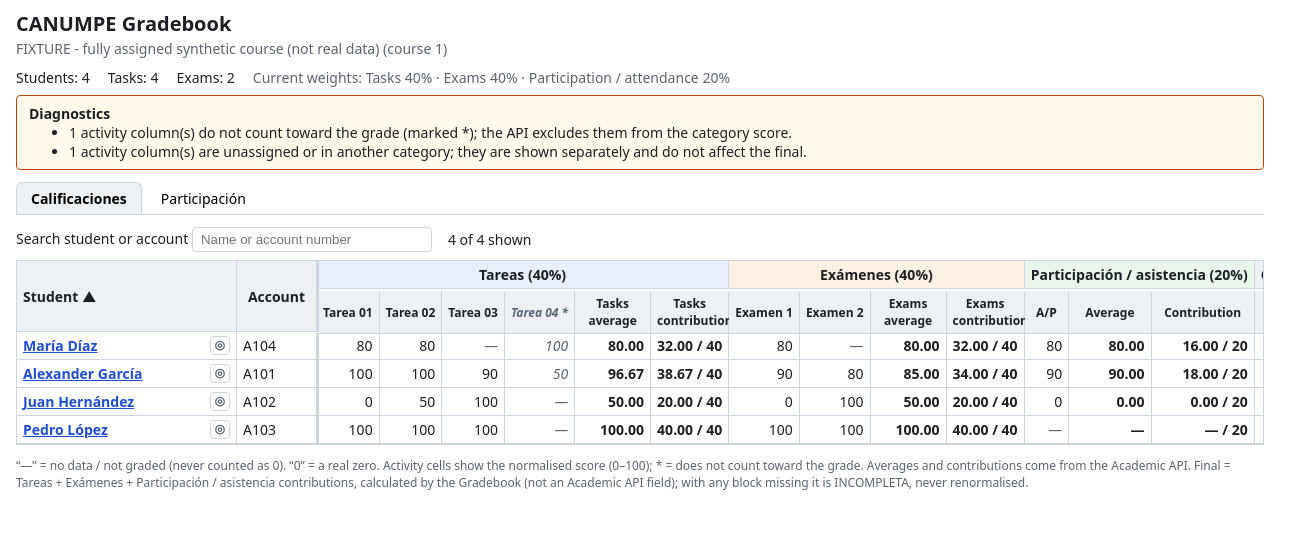
Scenario: Participación tab › A. starts empty: no control selected, no "no participation" option, nothing to send
This screenshot has width=1292, height=550.
expect the table is shown: met, box top-left (17, 261), bottom-right (1264, 444)
Click the tab "Participación".
click(203, 198)  # box top-left (146, 182), bottom-right (261, 214)
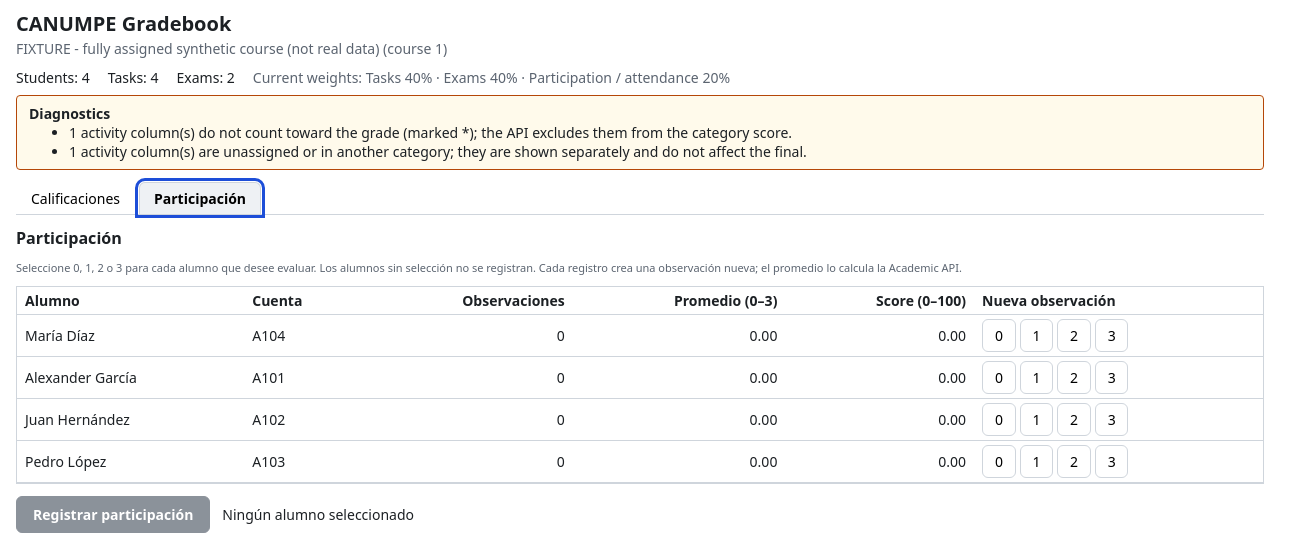
expect the number of radio buttons is 16: met
expect the button "Registrar participación" is disabled: met, box top-left (16, 496), bottom-right (210, 533)
expect the text "Ningún alumno seleccionado" is shown: met, box top-left (222, 505), bottom-right (414, 524)
